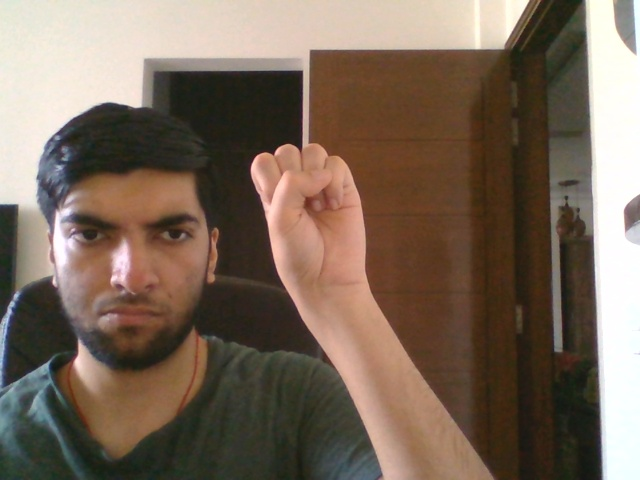LetterE: (250, 143, 367, 288)
